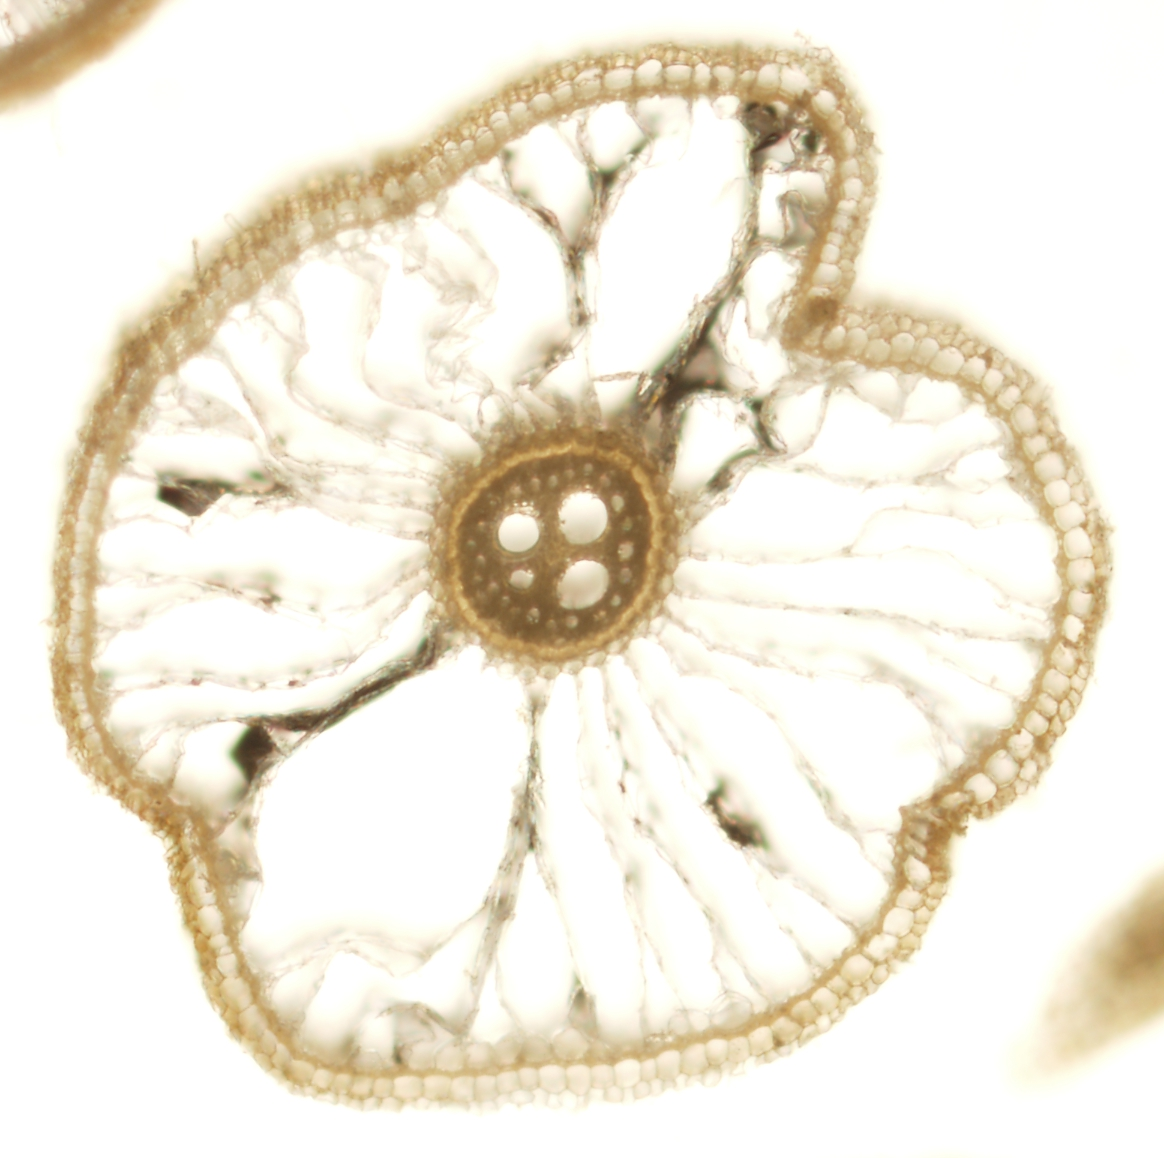lm: (558, 490, 607, 544), (555, 559, 609, 609), (497, 513, 537, 552), (508, 568, 534, 587)
